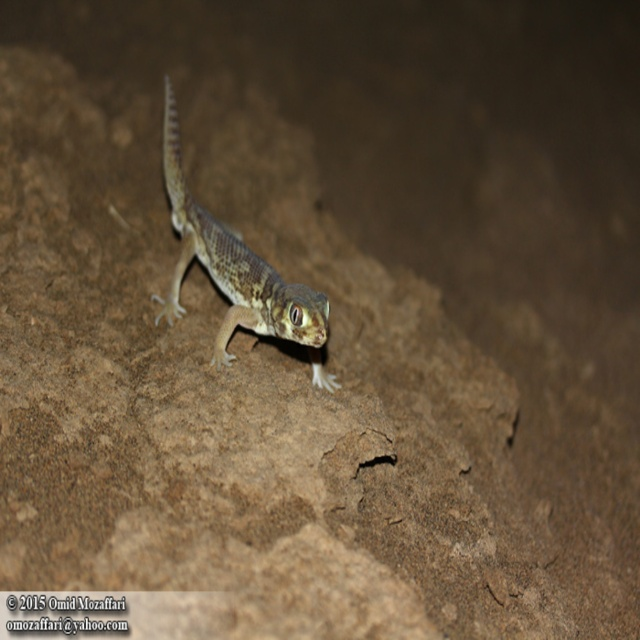Lizard: (155, 113, 325, 389)
